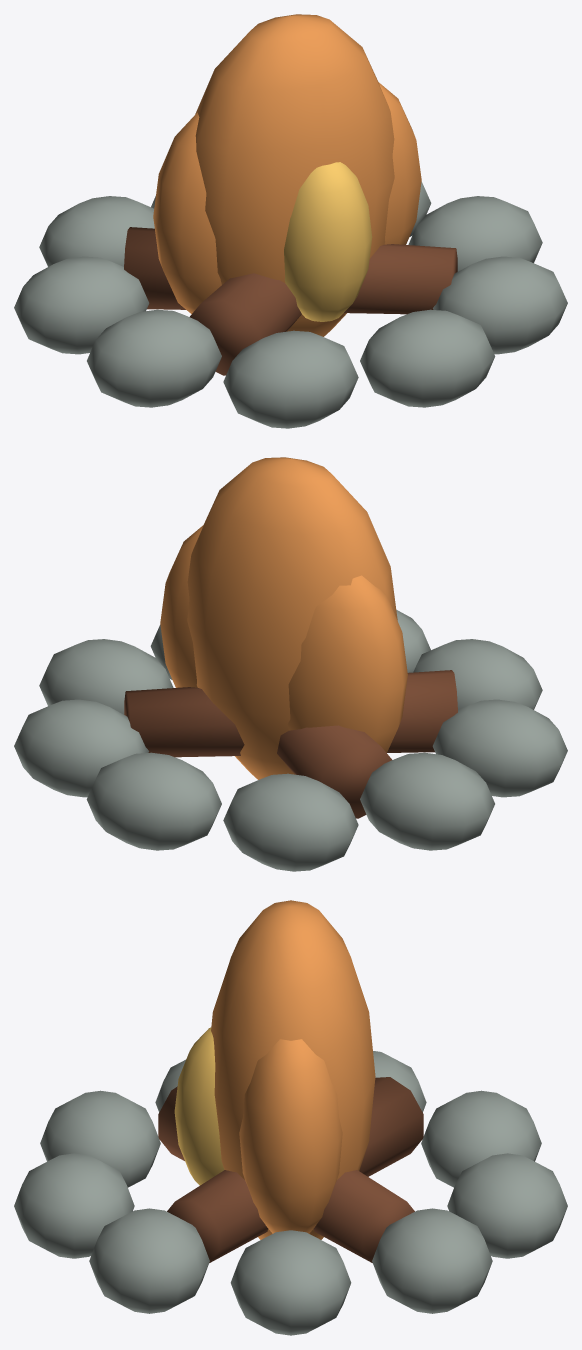
The model's file is campfire.glb.
The picture shows the model from 3 angles, top to bottom: view 1: azimuth 30°, elevation 25°; view 2: azimuth 150°, elevation 25°; view 3: azimuth 270°, elevation 25°; orthographic projection. The views are drawn at different scales.
Parts seen in each view (by area): view 1: campfire_mesh; view 2: campfire_mesh; view 3: campfire_mesh.
Boxes of the visible parts, left/top/right/bottom form: campfire_mesh: left=14, top=14, right=567, bottom=428; campfire_mesh: left=14, top=457, right=567, bottom=871; campfire_mesh: left=14, top=900, right=567, bottom=1335.
Bounding box in the file's own units: 1.33 × 0.868 × 1.28.
